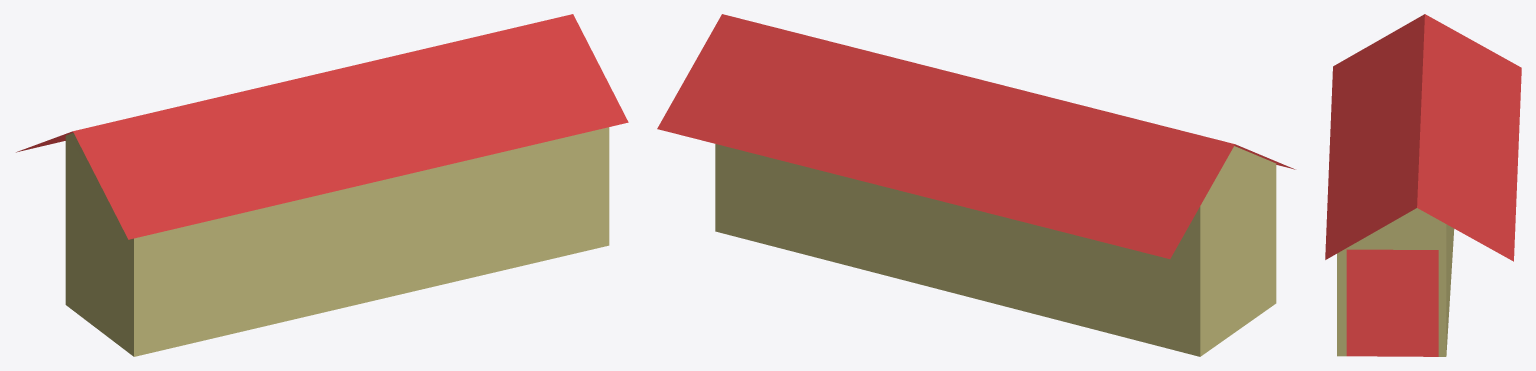
3 renders of one model, left to right at view 1: azimuth 30°, elevation 25°; view 2: azimuth 150°, elevation 25°; view 3: azimuth 270°, elevation 25°, orthographic. The views are drawn at different scales.
Size of the model in its own units: 30.1 by 12.81 by 11.05.
